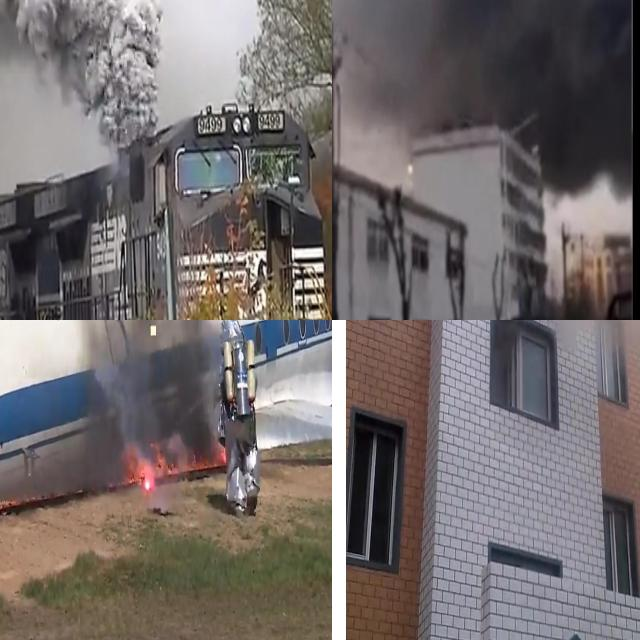fire: (121, 435, 228, 489), (0, 489, 20, 514)
smoke: (332, 0, 635, 209), (0, 320, 214, 441), (0, 0, 162, 152)
